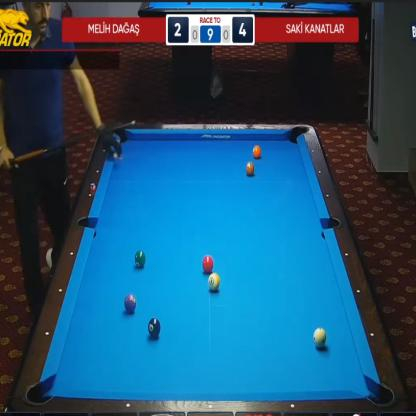Ball: (313, 328, 327, 348), (148, 317, 160, 338), (124, 294, 136, 314), (134, 249, 146, 268), (208, 273, 220, 292), (202, 256, 213, 272), (252, 145, 261, 159), (245, 162, 254, 176)
